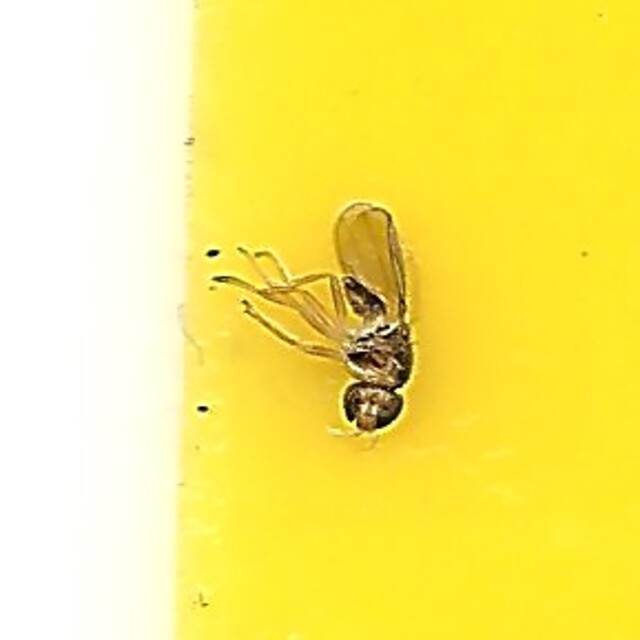Brachycera: (221, 203, 419, 437)
